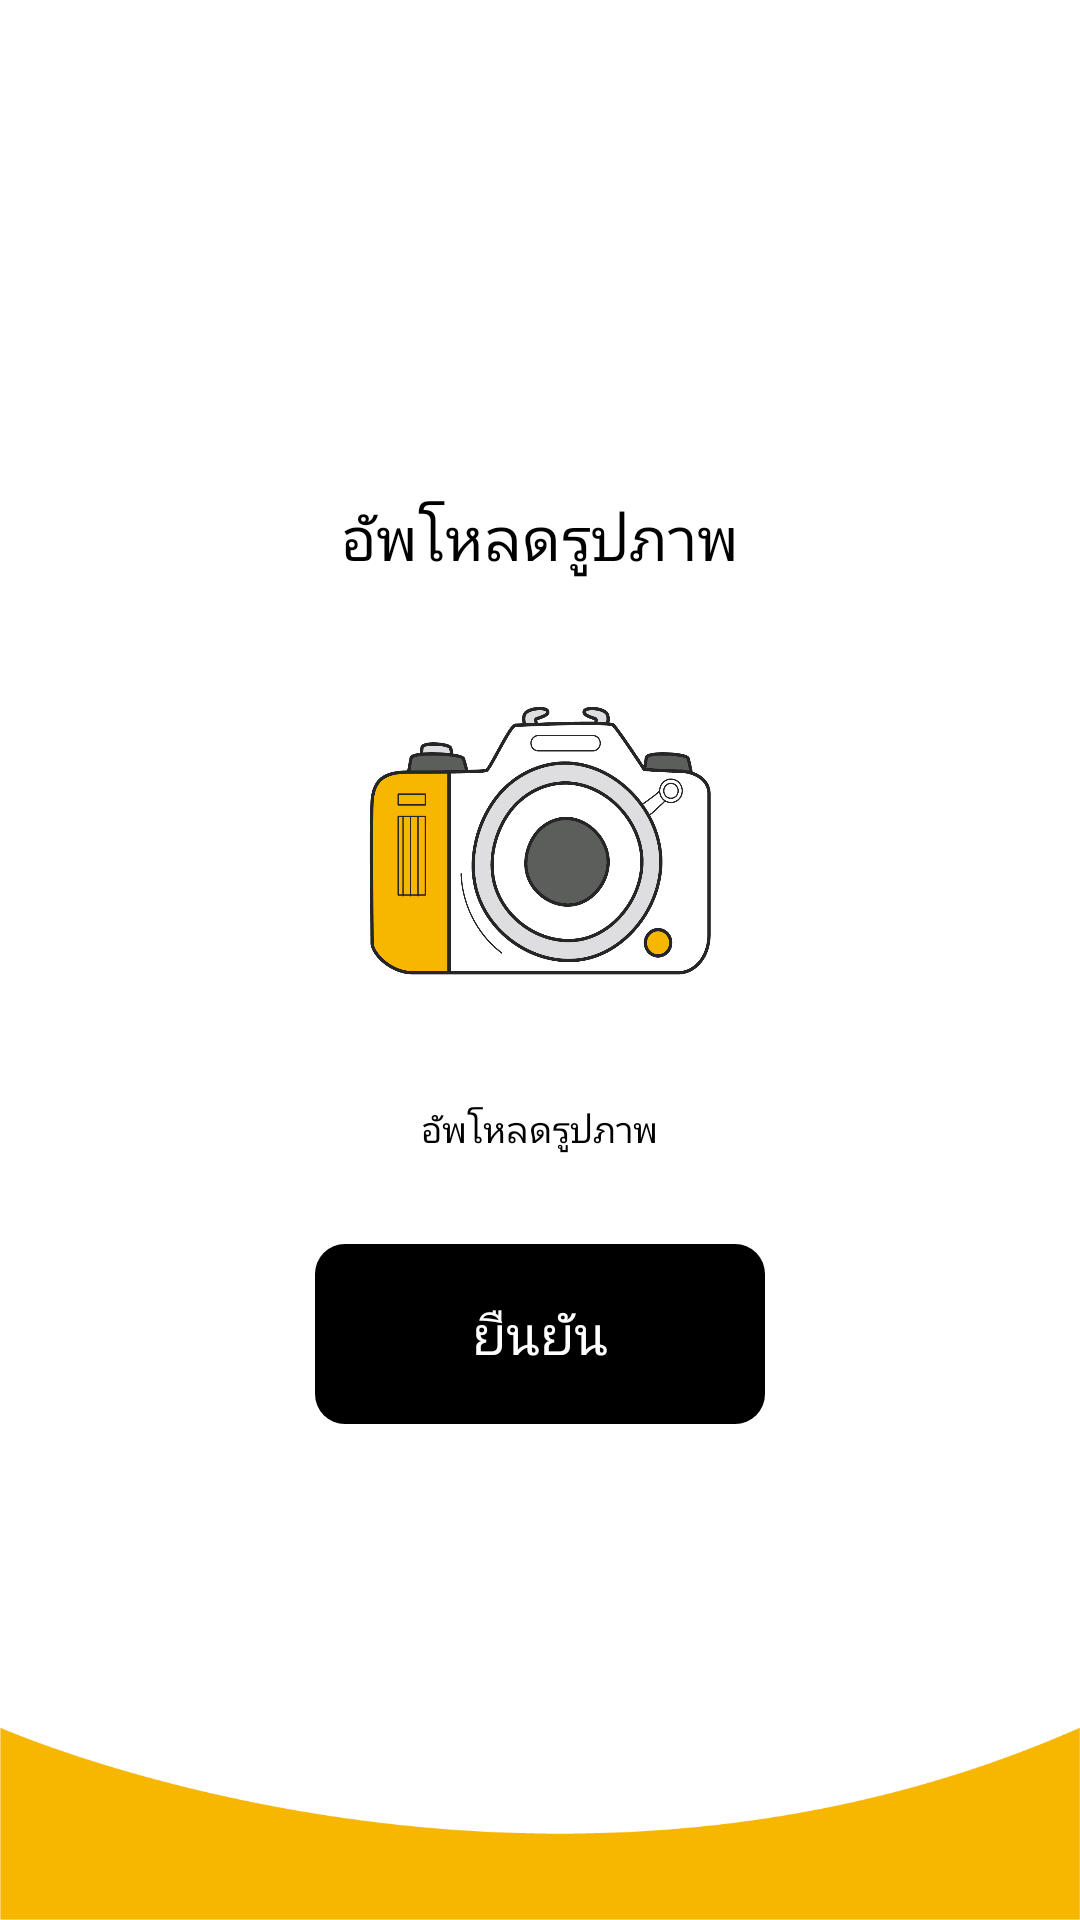

Screen size 1080x1920. Icon name, then its box in pixels as (x1=x1, y1=y1, x2=x2, y2=y2):
camera: (x1=370, y1=707, x2=711, y2=975)
